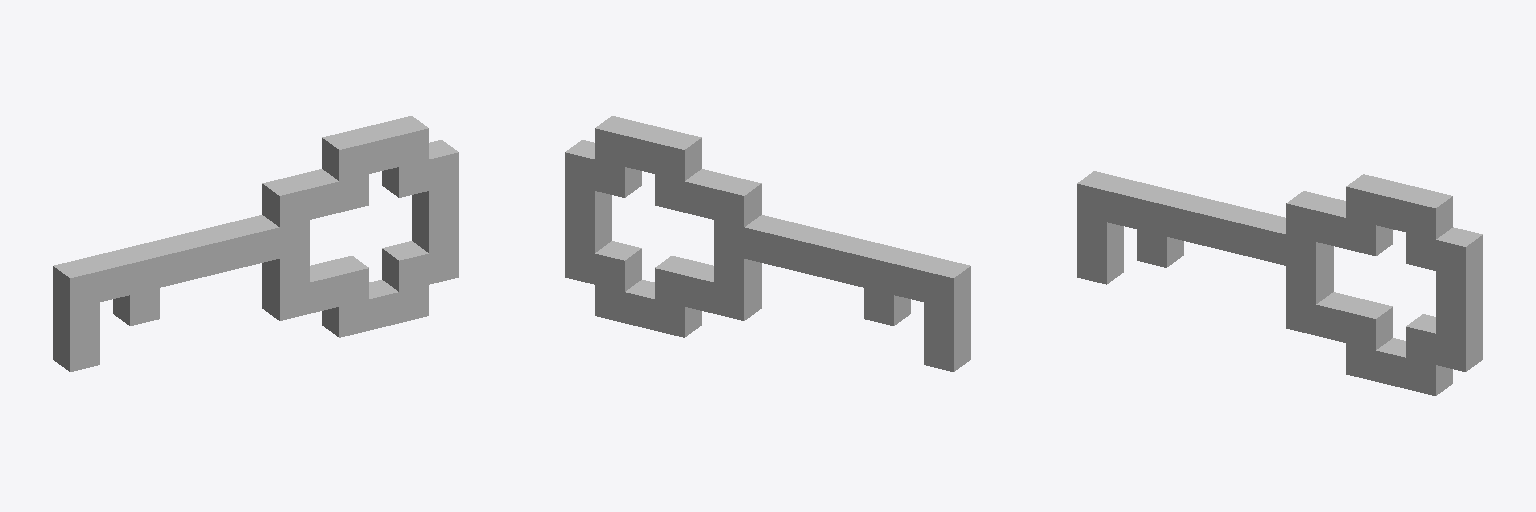
File: Key.obj
The picture shows the model from 3 angles: view 1: azimuth 30°, elevation 25°; view 2: azimuth 150°, elevation 25°; view 3: azimuth 330°, elevation 25°; orthographic projection.
Parts seen in each view (by area): view 1: object 1; view 2: object 1; view 3: object 1.
Boxes of the visible parts, x1=… form: object 1: x1=53, y1=116, x2=458, y2=371; object 1: x1=565, y1=116, x2=970, y2=371; object 1: x1=1077, y1=171, x2=1482, y2=395.
Size of the model in its own units: 2.6 by 1.2 by 0.2.